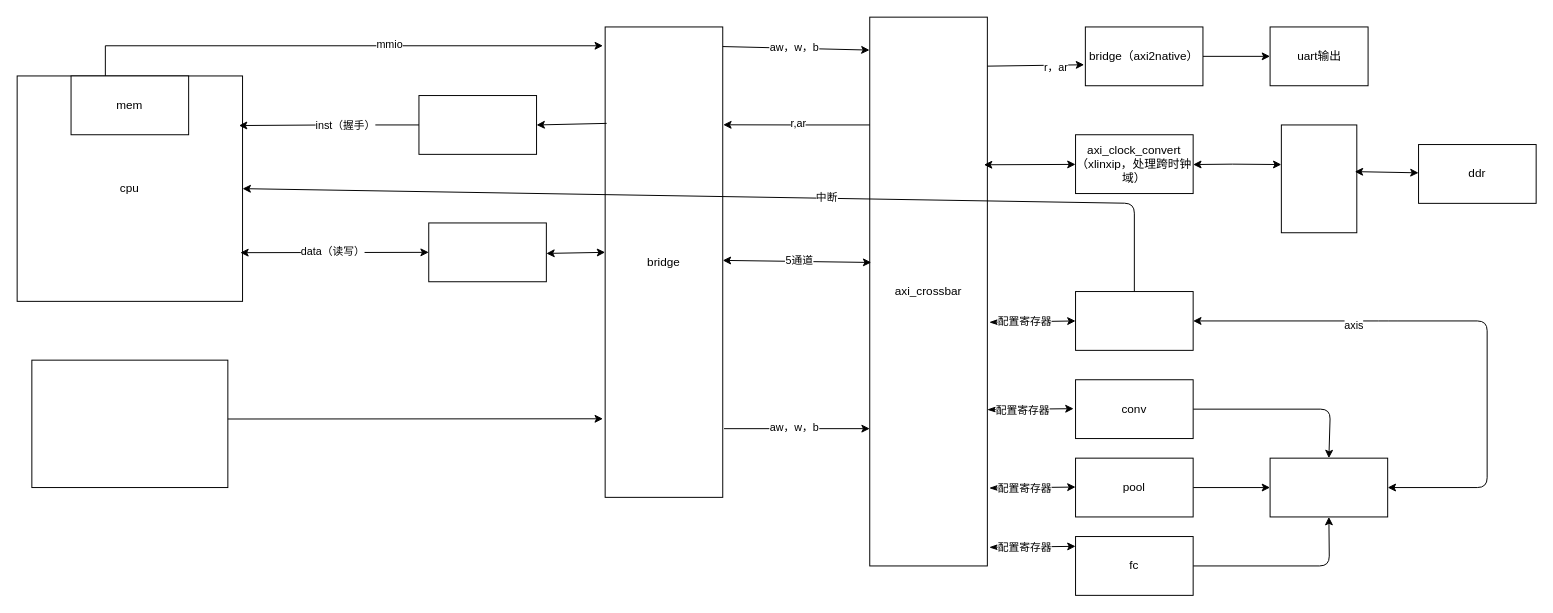
The diagram is 1553 pixels wide and 613 high, and some of its shapes have lost their labels. The centre of each missing label's shape, as x and y in pixels:
dcache: (487,252)
dma: (1134,320)
icache: (477,124)
loader: (129,423)
mig: (1318,178)
ram: (1328,487)
